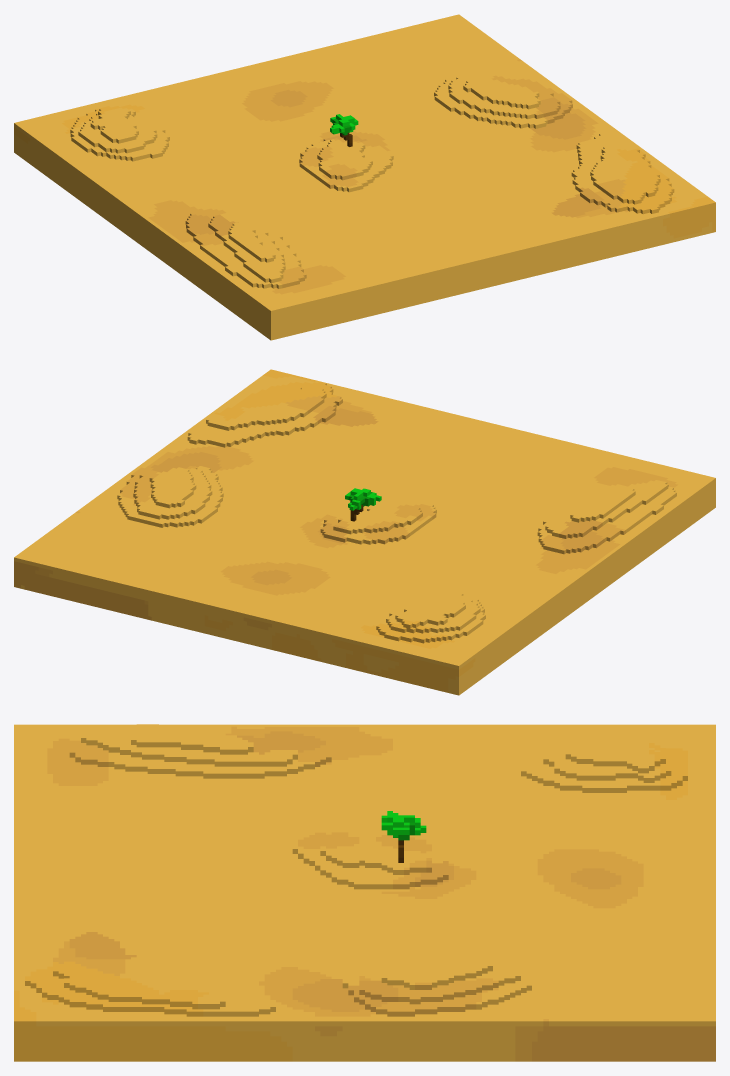
File: Egypt-3.obj
The picture shows the model from 3 angles, top to bottom: view 1: azimuth 30°, elevation 25°; view 2: azimuth 150°, elevation 25°; view 3: azimuth 270°, elevation 25°; orthographic projection. The views are drawn at different scales.
Size of the model in its own units: 12.6 by 1.8 by 12.6.
Materials: 1 (1 with a texture image).
